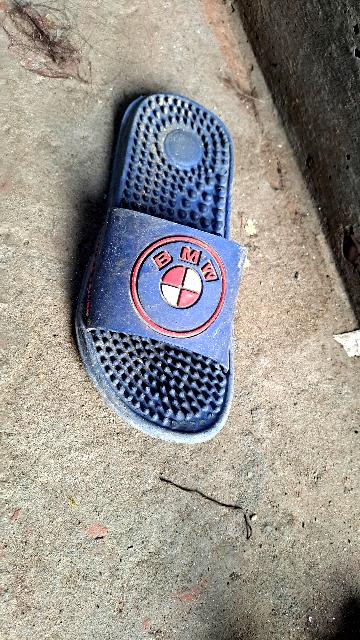sandal: (53, 90, 277, 467)
